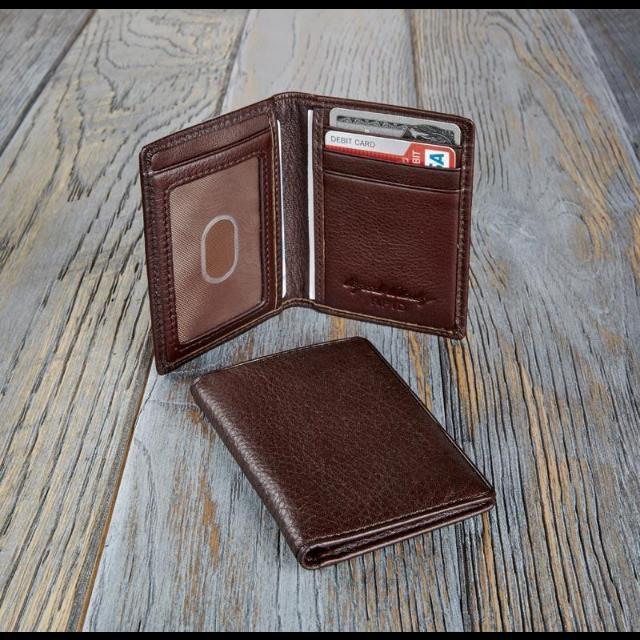wallet: (140, 90, 474, 372), (191, 334, 494, 566)
